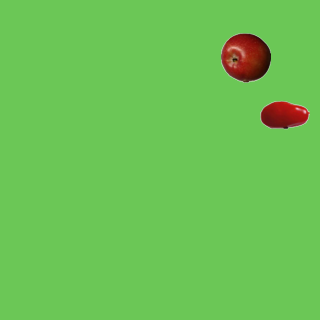Apple Braeburn: (220, 32, 270, 82)
Tomato 2: (259, 89, 309, 139)
